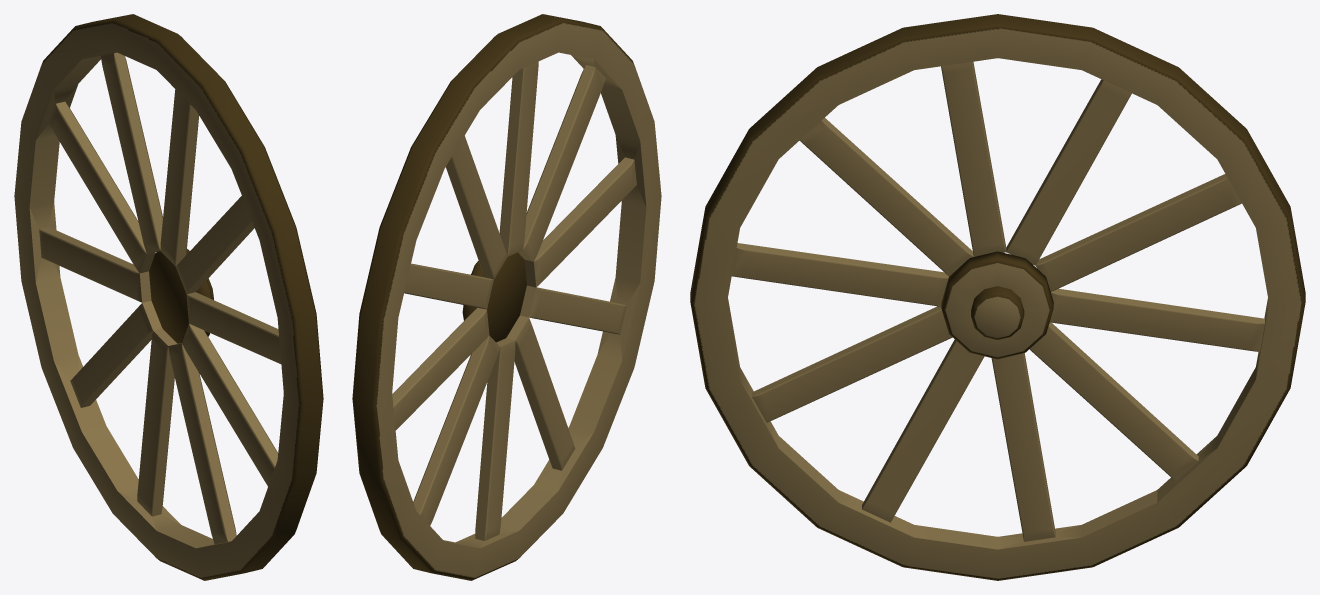
File: mdl_wheel_fl.fbx
3 views of the same model, side by side, from view 1: azimuth 30°, elevation 25°; view 2: azimuth 150°, elevation 25°; view 3: azimuth 270°, elevation 25° (orthographic). The views are drawn at different scales.
Visible parts, largest first — view 1: SM_Wheel_FL; view 2: SM_Wheel_FL; view 3: SM_Wheel_FL.
Part boxes in pixels (<box>): SM_Wheel_FL: <box>14,14,323,580</box>; SM_Wheel_FL: <box>352,14,661,580</box>; SM_Wheel_FL: <box>690,14,1305,580</box>.
Bounding box in the file's own units: 0.0706 × 0.7605 × 0.7605.
Materials: 1 (1 with a texture image).
